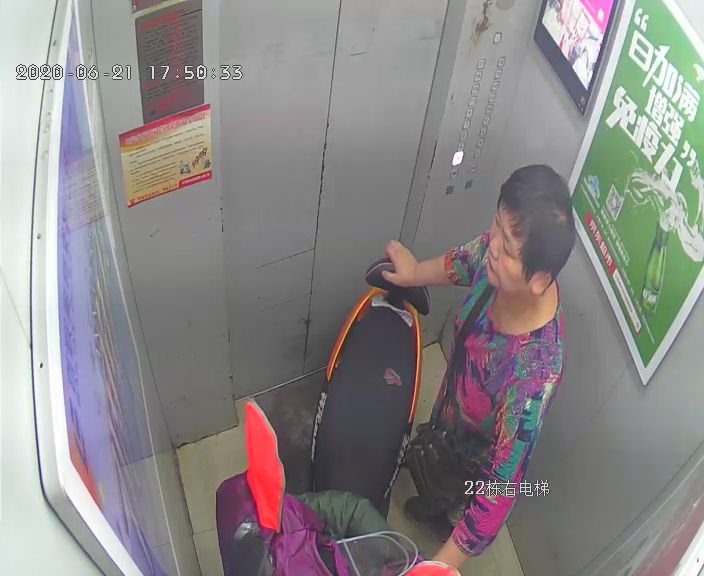Electric-bicycle: (219, 255, 432, 576)
